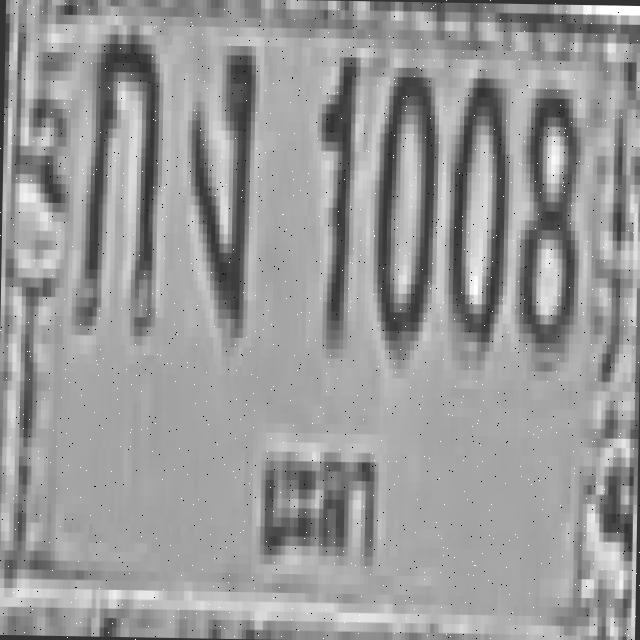0: (370, 57, 438, 350), (443, 68, 506, 351)
1: (313, 46, 356, 340)
10GorGai: (73, 25, 158, 326)
16NgorNgu: (184, 35, 252, 328)
8: (514, 79, 578, 353)
Yala: (252, 434, 392, 592)
